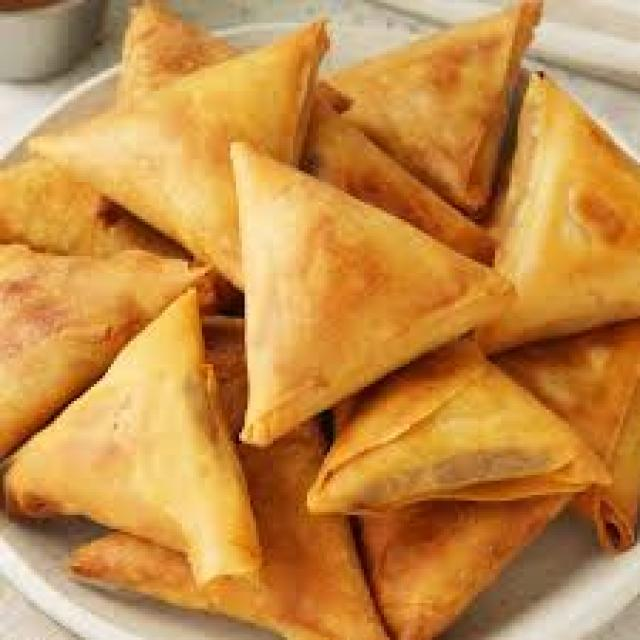SAMOSA: (230, 142, 506, 444), (34, 23, 324, 284), (6, 290, 256, 577), (71, 421, 387, 637), (310, 341, 609, 512), (321, 0, 538, 213), (0, 245, 213, 455), (481, 77, 637, 347)
